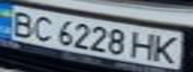2: (69, 20, 93, 52), (87, 24, 109, 54)
6: (51, 18, 75, 47)
8: (106, 26, 130, 57)
B: (3, 8, 39, 37)
C: (27, 14, 57, 43)
H: (130, 29, 160, 61)
K: (151, 34, 184, 64)
